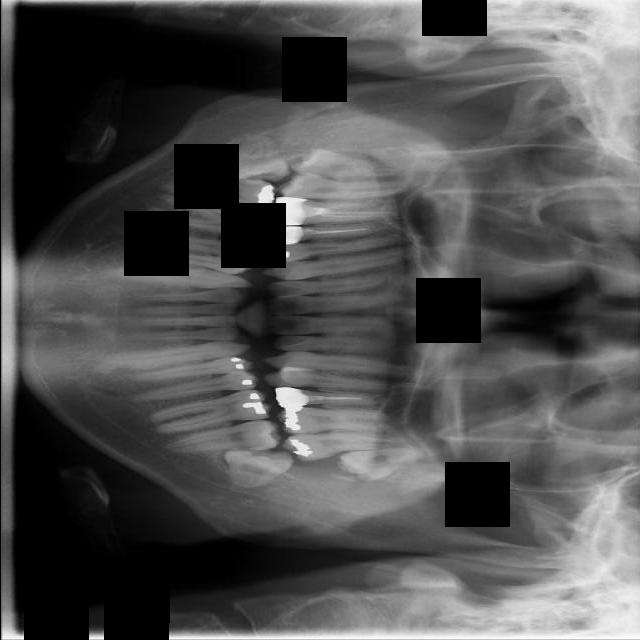3M ESPE Implant: (288, 145, 432, 188)
52: (280, 431, 336, 464), (220, 207, 268, 245), (232, 175, 278, 214), (222, 388, 270, 423), (267, 196, 315, 227), (275, 404, 320, 436), (204, 352, 253, 378), (263, 222, 306, 246), (271, 387, 312, 409), (262, 242, 306, 262), (214, 370, 257, 390)
73: (303, 197, 419, 224), (300, 217, 380, 241), (302, 390, 383, 408), (39, 590, 45, 604)
BioHorizons Implant: (280, 431, 409, 461)
BioLife Implant: (336, 441, 449, 485)
Biomet 3i Implant: (222, 443, 295, 492)
Blue Sky Bio Implant: (159, 416, 282, 467)
Caries: (275, 171, 430, 202)
Implant: (158, 158, 279, 215)
Keystone Dental Implant: (216, 131, 291, 188)
